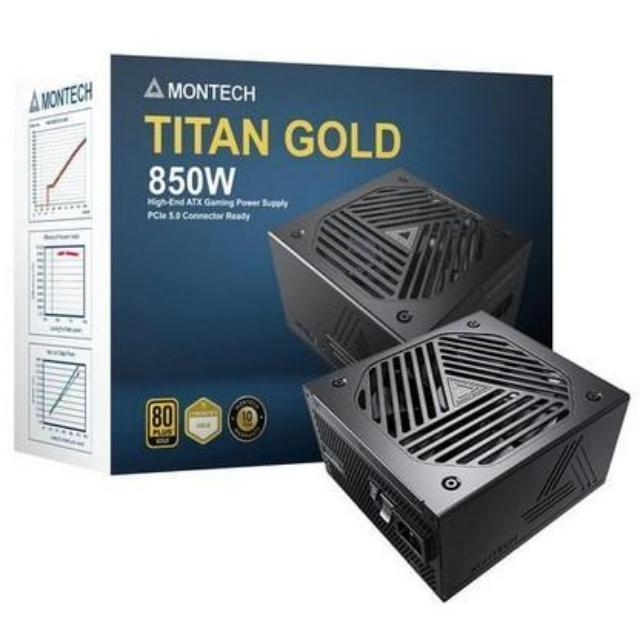PSU: (294, 307, 634, 605), (270, 162, 532, 396)
